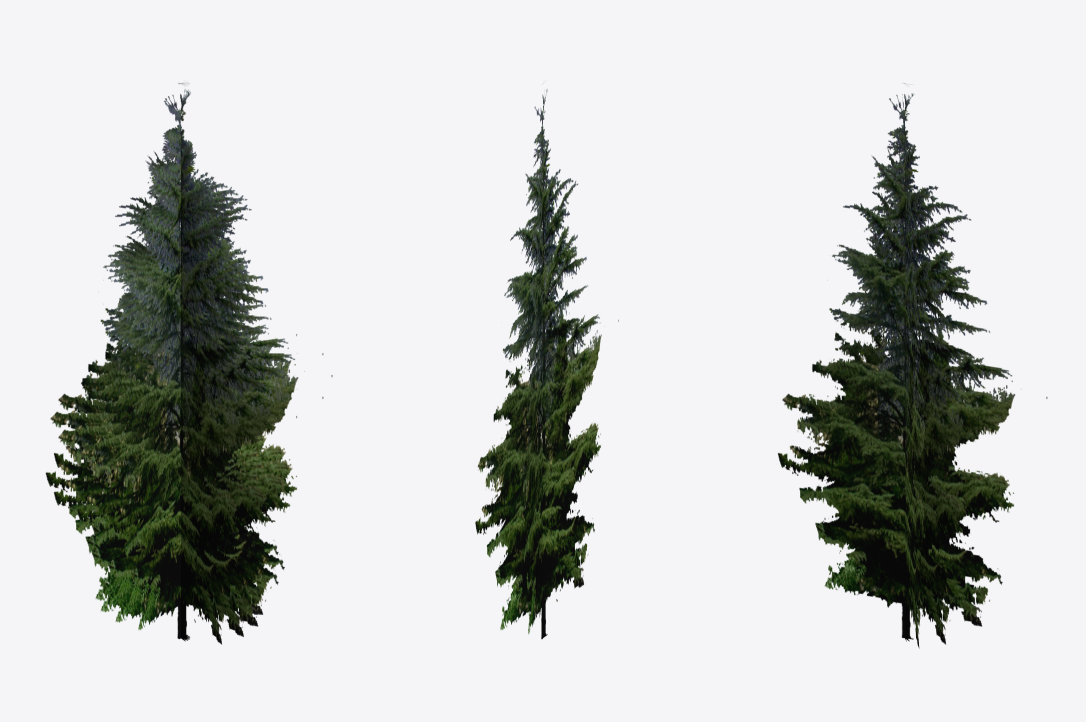
File: shu3.gltf
3 views of the same model, side by side, from view 1: azimuth 30°, elevation 25°; view 2: azimuth 150°, elevation 25°; view 3: azimuth 270°, elevation 25° (orthographic).
Parts seen in each view (by area): view 1: Box042; view 2: Box042; view 3: Box042.
Boxes of the visible parts, bbox=[...] form: Box042: bbox=[45, 82, 332, 644]; Box042: bbox=[475, 82, 618, 639]; Box042: bbox=[778, 83, 1047, 648].
Bounding box in the file's own units: 3.76 × 7 × 3.82.
1 material, 1 textured.
